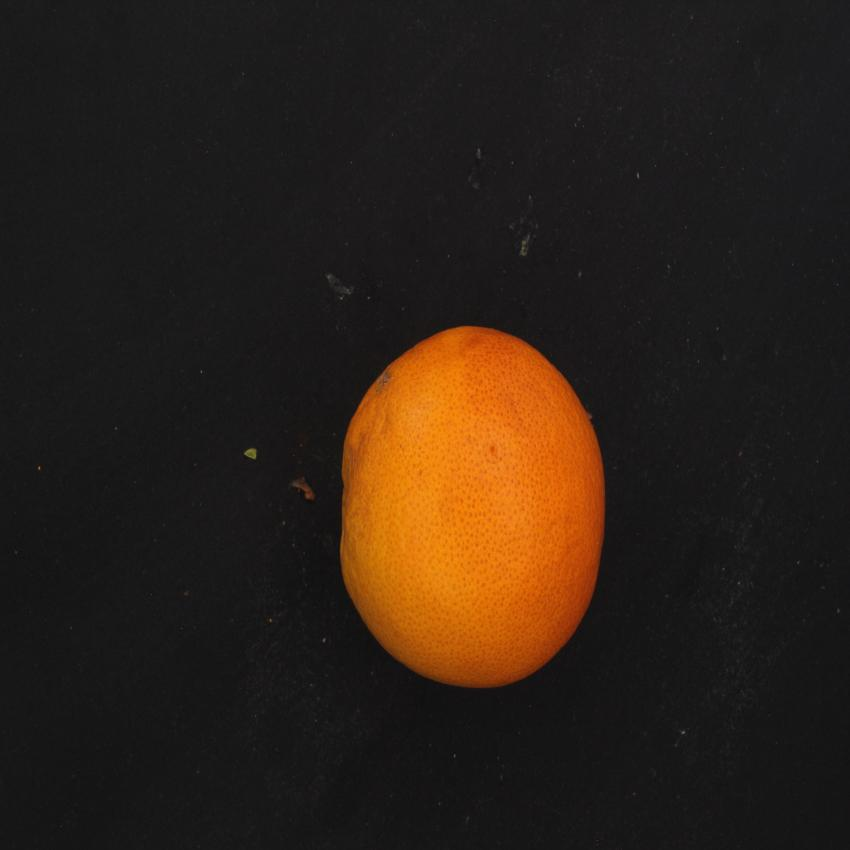Buen estado: (332, 315, 618, 702)
